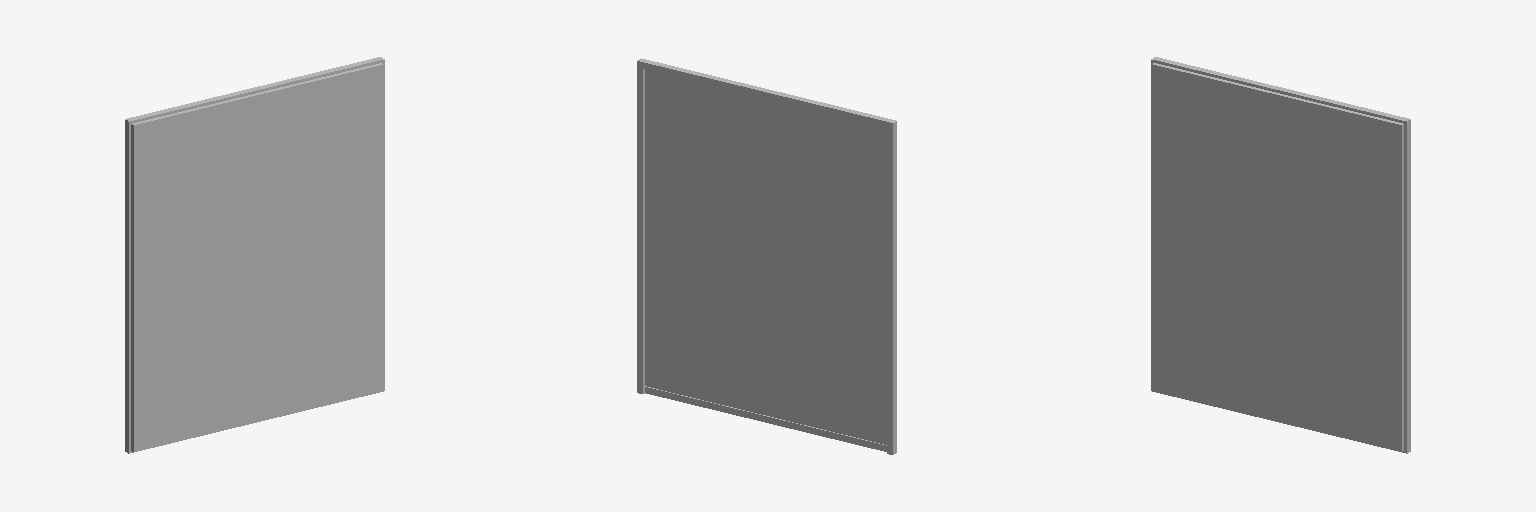
File: paint.obj
3 views of the same model, side by side, from view 1: azimuth 30°, elevation 25°; view 2: azimuth 150°, elevation 25°; view 3: azimuth 330°, elevation 25° (orthographic).
Parts seen in each view (by area): view 1: Cube, Cube.001, Cube.002; view 2: Cube, Cube.001, Cube.002, Cube.003; view 3: Cube, Cube.001, Cube.002.
Part boxes in pixels (x1,y1,x2,y2): Cube: (131,63,382,452); Cube.001: (125,59,384,453); Cube.002: (126,57,383,127); Cube: (645,69,886,444); Cube.001: (637,64,896,454); Cube.002: (637,58,895,128); Cube.003: (645,386,886,451); Cube: (1152,63,1403,451); Cube.001: (1151,59,1410,453); Cube.002: (1152,57,1409,127).
Bounding box in the file's own units: 4.1 × 5.08 × 0.1596.